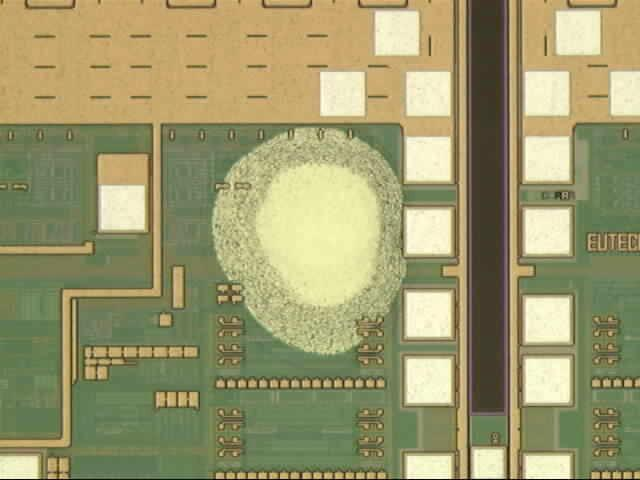BLOCK ETCH: (202, 123, 438, 359)
